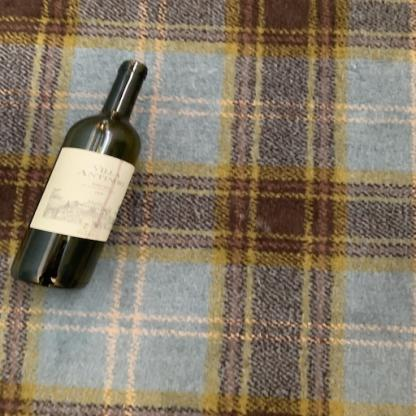trash: (4, 59, 150, 292)
